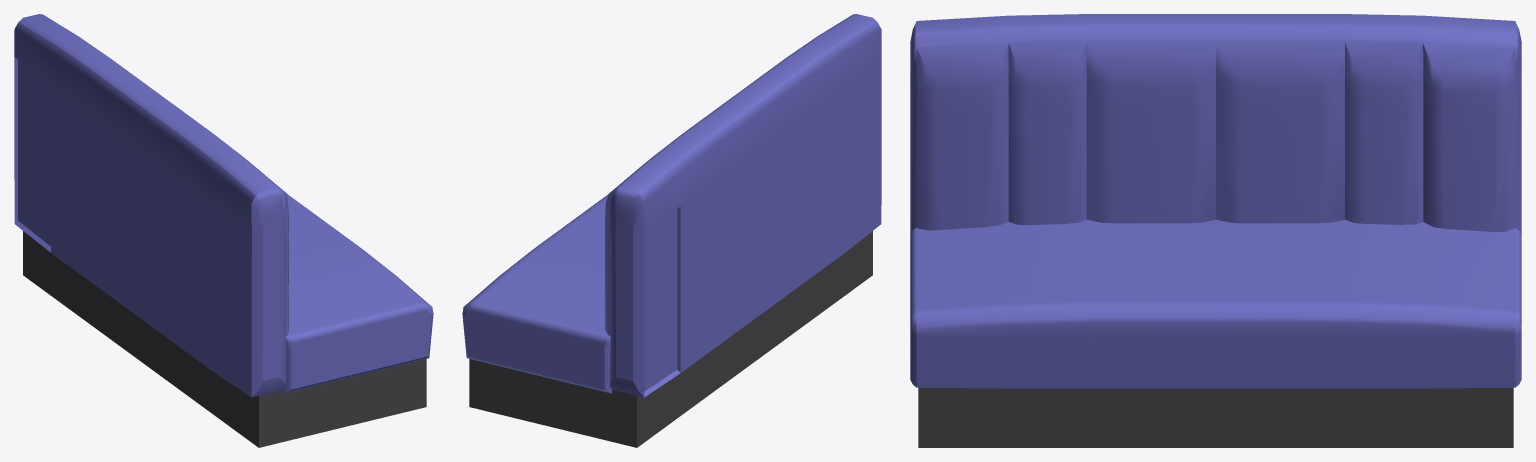
The model's file is seat 2 (1).fbx.
The picture shows the model from 3 angles, left to right: view 1: azimuth 30°, elevation 25°; view 2: azimuth 150°, elevation 25°; view 3: azimuth 270°, elevation 25°; orthographic projection. The views are drawn at different scales.
Visible parts, largest first — view 1: pCube5, pCube6, pCube4; view 2: pCube5, pCube6, pCube4; view 3: pCube5, pCube4, pCube6.
Part boxes in pixels (<box>): pCube5: <box>14,14,288,397</box>; pCube6: <box>23,231,426,447</box>; pCube4: <box>283,194,433,393</box>; pCube5: <box>605,14,881,397</box>; pCube6: <box>469,231,872,447</box>; pCube4: <box>462,194,612,393</box>; pCube5: <box>910,14,1521,234</box>; pCube4: <box>910,219,1521,388</box>; pCube6: <box>918,387,1513,447</box>.
Size of the model in its own units: 1.78 by 2.45 by 4.1.
